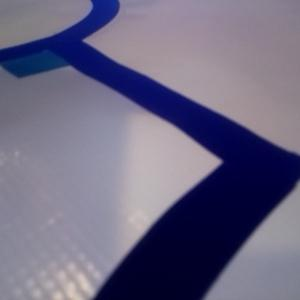bottom_left: (1, 47, 71, 78)
